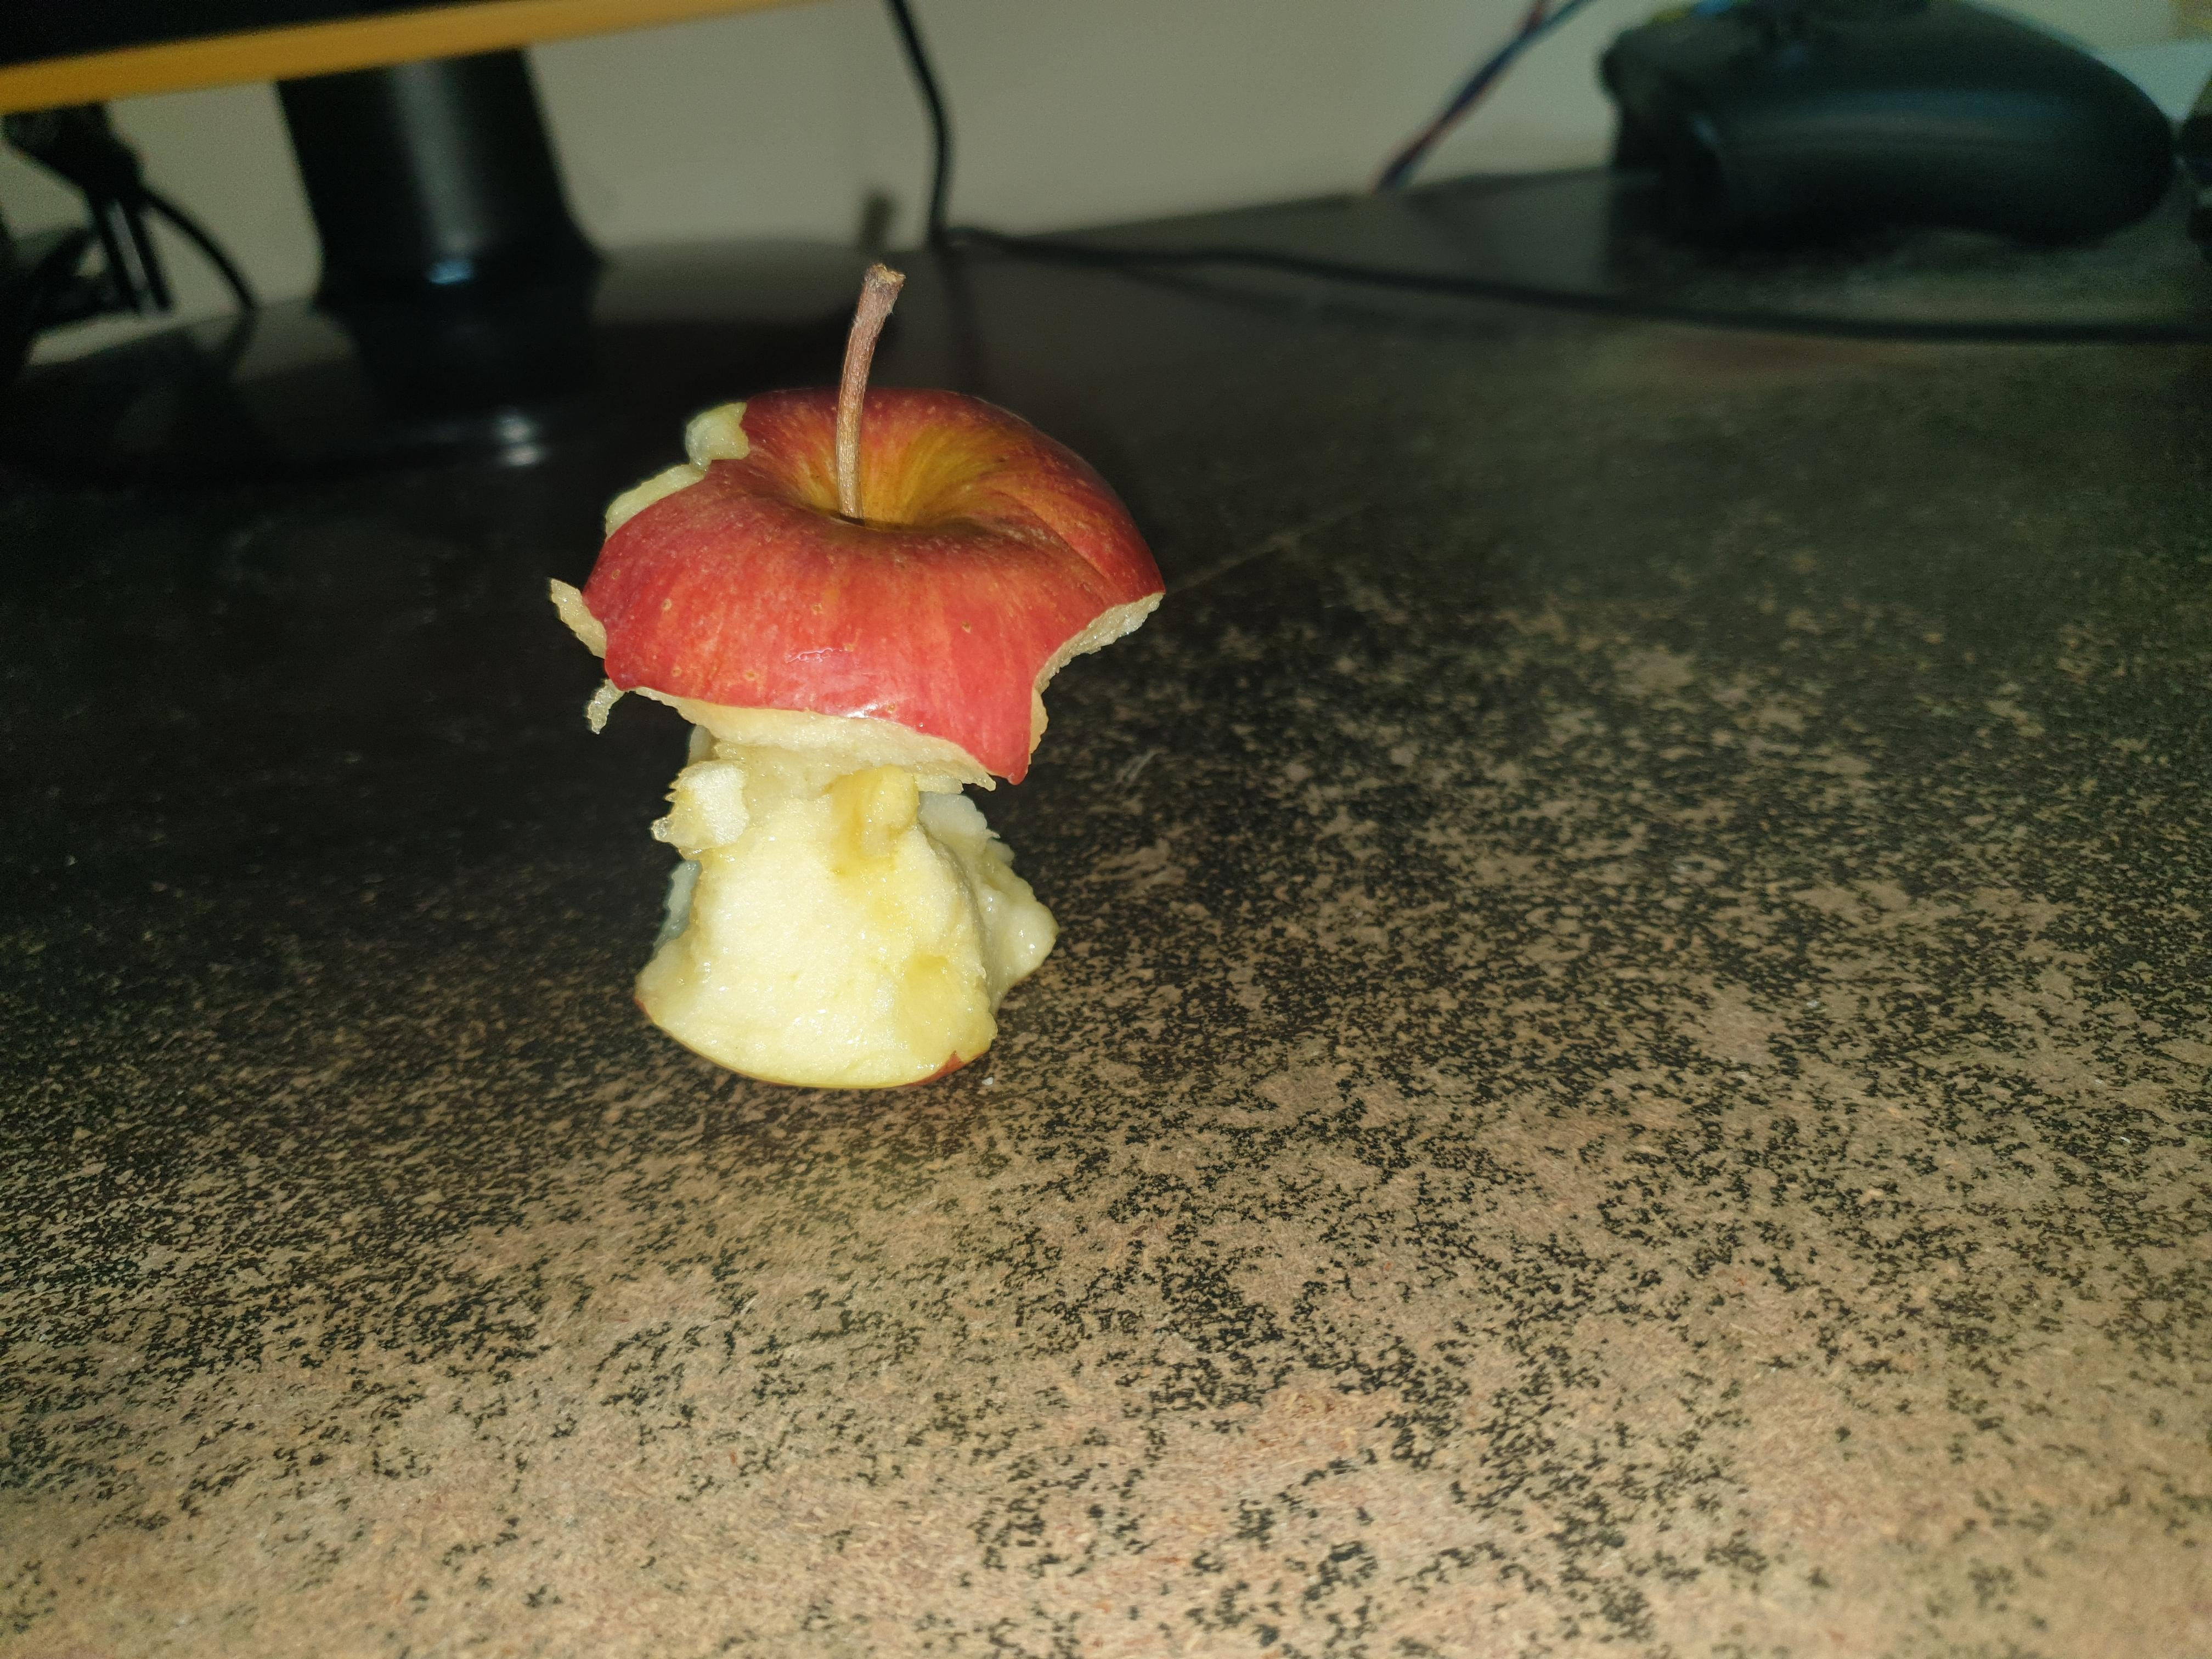Apple: (521, 237, 1221, 1110)
